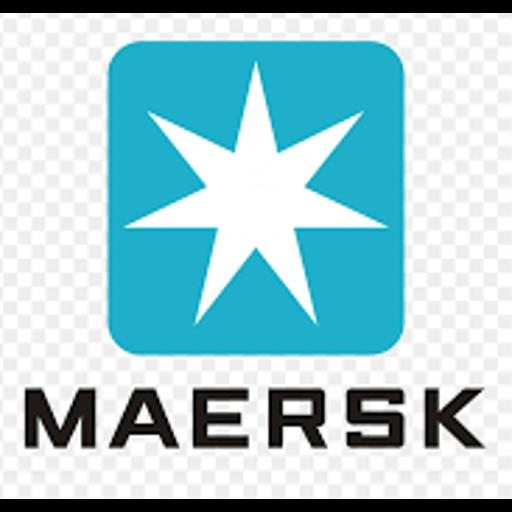Maersk: (0, 13, 512, 499)
